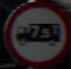Heavy Vehicles: (8, 4, 62, 57)
